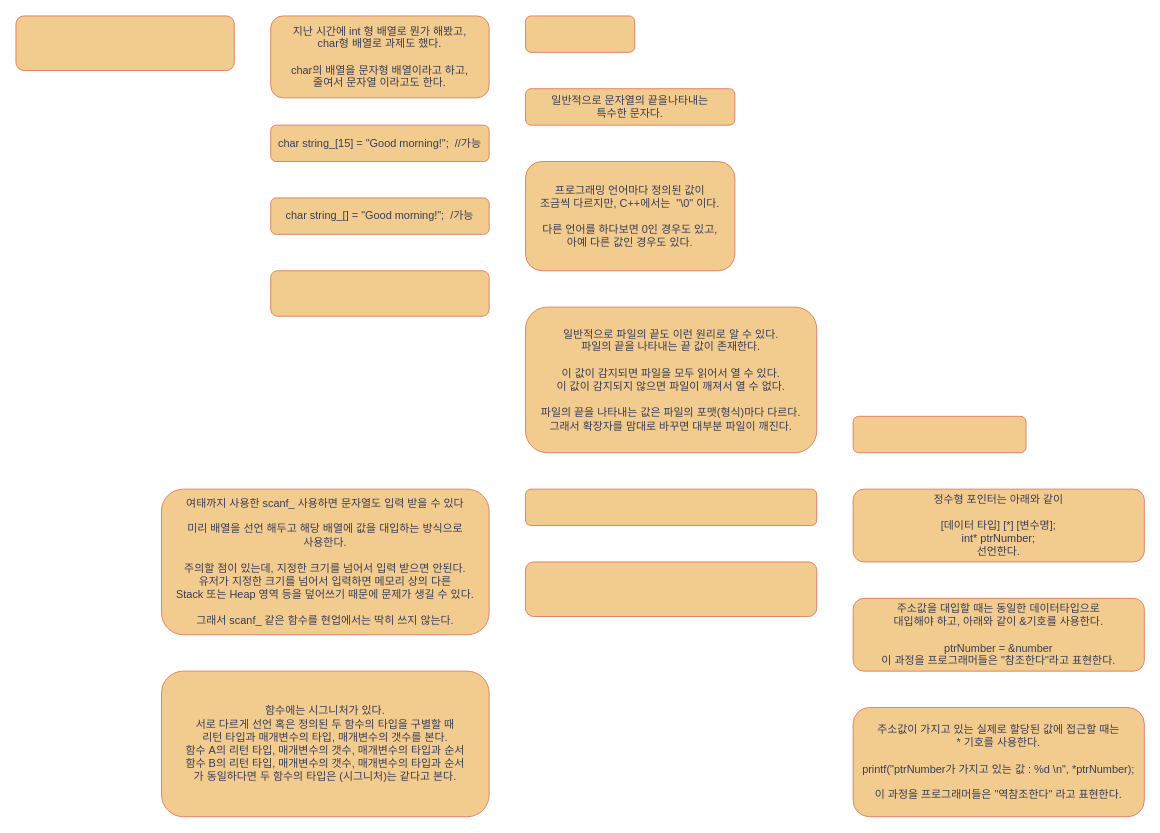
This 1160x833 diagram has some shape labels left out. The centre of each missing label's shape, as x and y in pixels:
int number = 10;: pixel 939 434
NULL 문자: pixel 580 33
string_= "Good morning!"; // 선언 이후 대입 불가능: pixel 379 293
배열 -> 여러개의 변수를 연속적으로 할당하여 사용하기 위한 기능이다.: pixel 124 43
변수에는 주소값이 존재한다. 변수는 [주소값]과 해당 주소값에 저장되어 있는 [할당된 값]으로 이루어져 있다.: pixel 671 589
포인터는 변수의 주소값을 저장하기 위해서 사용한다.: pixel 671 507
